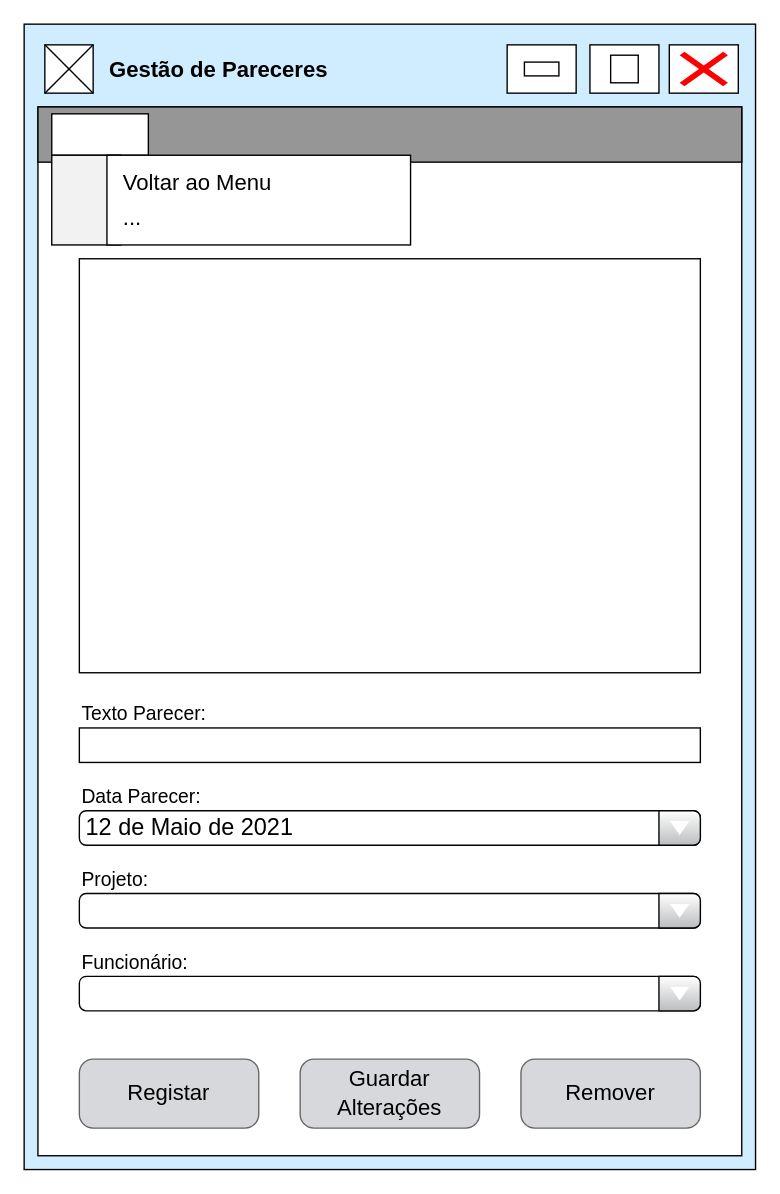
The diagram is 780 pixels wide and 1194 high, and some of its shapes have lost their labels. Each missing label, with the box of its shape:
ListBox Pareceres: (78, 257, 700, 673)
Menu: (50, 112, 148, 155)
